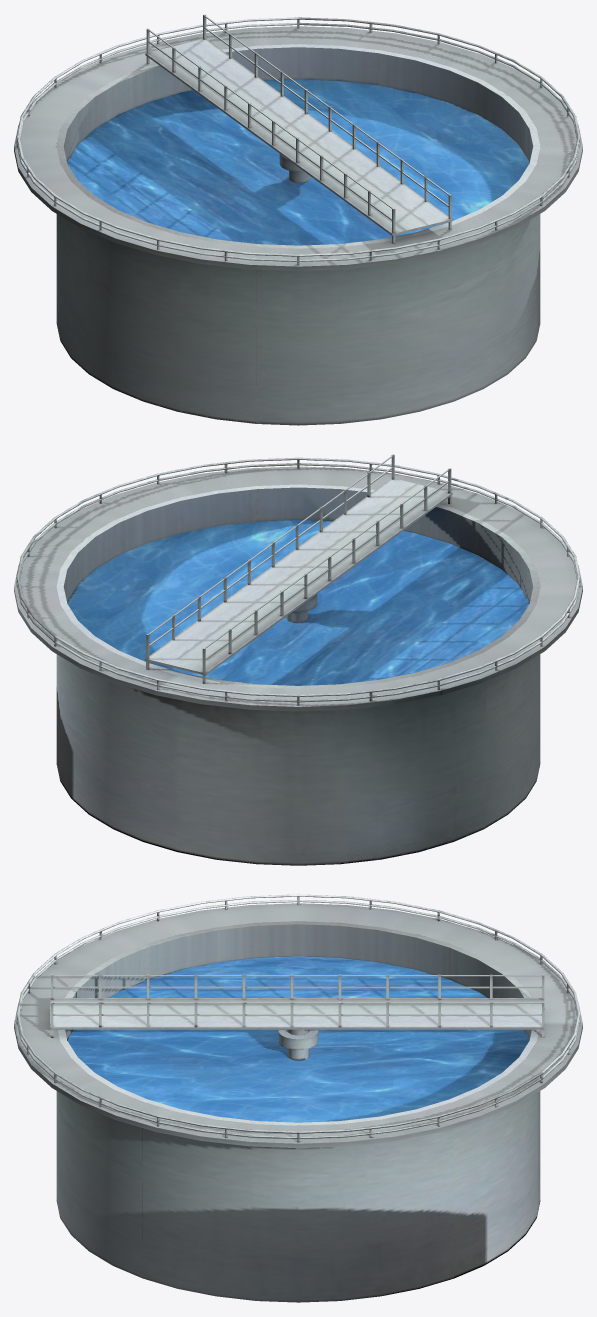
The model's file is build3YNSCYQ.glb.
The picture shows the model from 3 angles, top to bottom: view 1: azimuth 30°, elevation 25°; view 2: azimuth 150°, elevation 25°; view 3: azimuth 270°, elevation 25°; orthographic projection.
Visible parts, largest first — view 1: build3YNSCYQ; view 2: build3YNSCYQ; view 3: build3YNSCYQ.
Part boxes in pixels (bbox=[...]): build3YNSCYQ: bbox=[14, 14, 582, 425]; build3YNSCYQ: bbox=[14, 454, 582, 865]; build3YNSCYQ: bbox=[14, 894, 582, 1302].
Size of the model in its own units: 1732 by 711 by 1732.
Materials: 1 (1 with a texture image).
